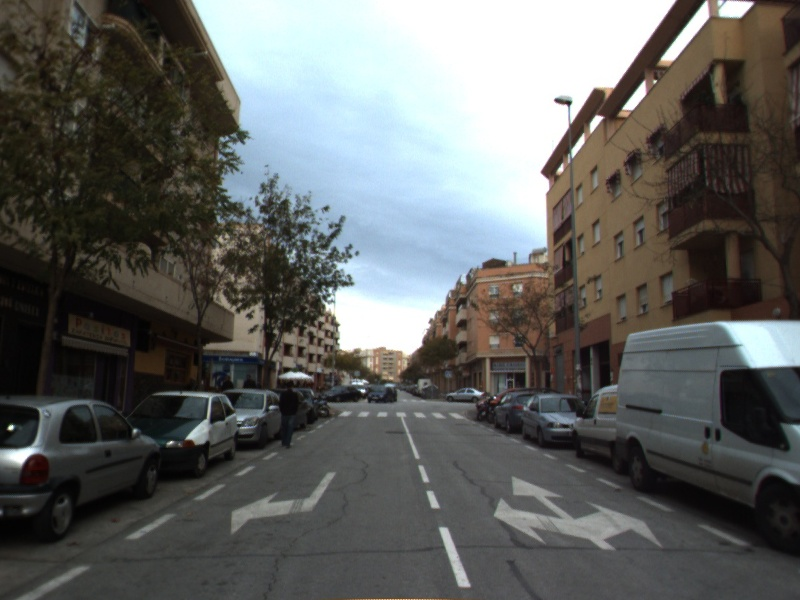STRAIGHT_LEFT_RIGHT: (491, 473, 665, 553)
